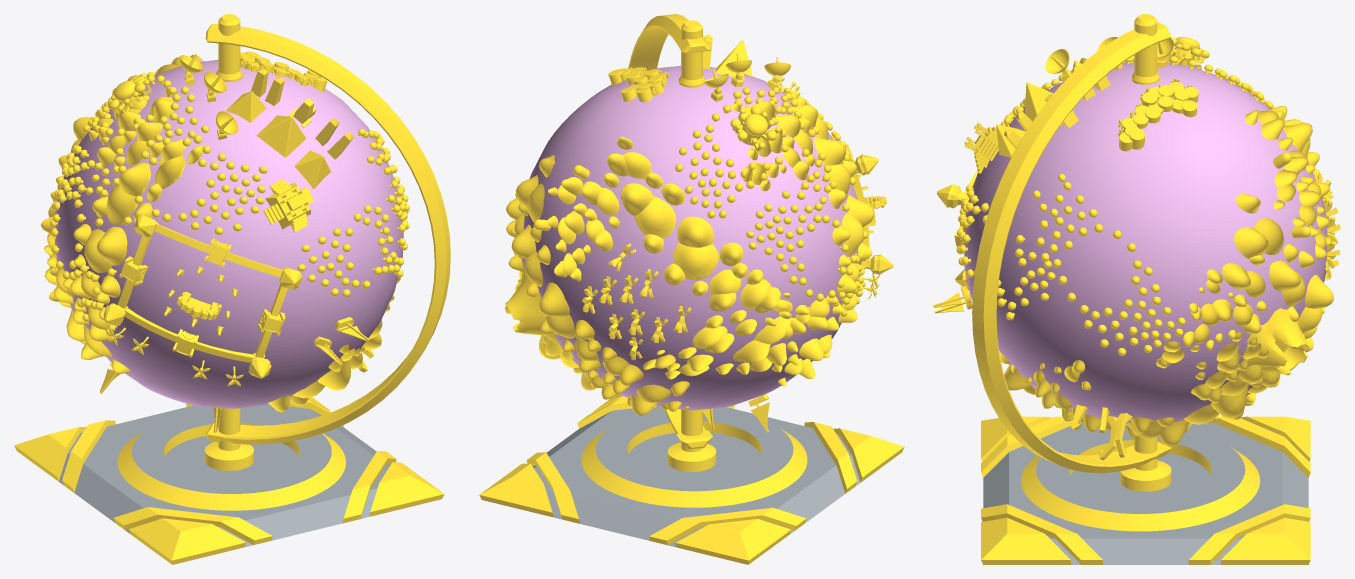
Rendered from Globe5.fbx.
The picture shows the model from 3 angles, left to right: view 1: azimuth 30°, elevation 25°; view 2: azimuth 150°, elevation 25°; view 3: azimuth 270°, elevation 25°; orthographic projection. The views are drawn at different scales.
Visible parts, largest first — view 1: globe_5, deets, Globe5, arc_arm, stand, spinning_shaft; view 2: deets, globe_5, Globe5, stand, spinning_shaft, arc_arm; view 3: globe_5, deets, Globe5, arc_arm, stand, spinning_shaft.
Part boxes in pixels (<box>): globe_5: <box>55,59,403,408</box>; deets: <box>41,51,409,432</box>; Globe5: <box>14,397,444,564</box>; arc_arm: <box>205,23,450,444</box>; stand: <box>117,409,345,510</box>; spinning_shaft: <box>204,14,253,470</box>; deets: <box>504,34,893,432</box>; globe_5: <box>521,66,863,410</box>; Globe5: <box>479,395,904,564</box>; stand: <box>581,408,807,507</box>; spinning_shaft: <box>667,20,716,471</box>; arc_arm: <box>628,14,712,449</box>; globe_5: <box>964,62,1327,425</box>; deets: <box>933,37,1340,460</box>; Globe5: <box>981,416,1310,564</box>; arc_arm: <box>972,22,1171,473</box>; stand: <box>1021,427,1259,531</box>; spinning_shaft: <box>1120,14,1171,491</box>.
Bounding box in the file's own units: 0.8892 × 1.21 × 0.9367.
